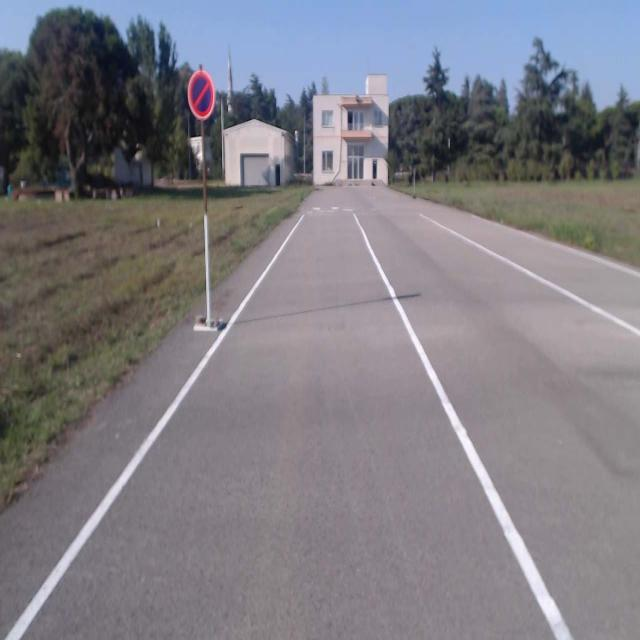parkyasak: (189, 72, 214, 120)
